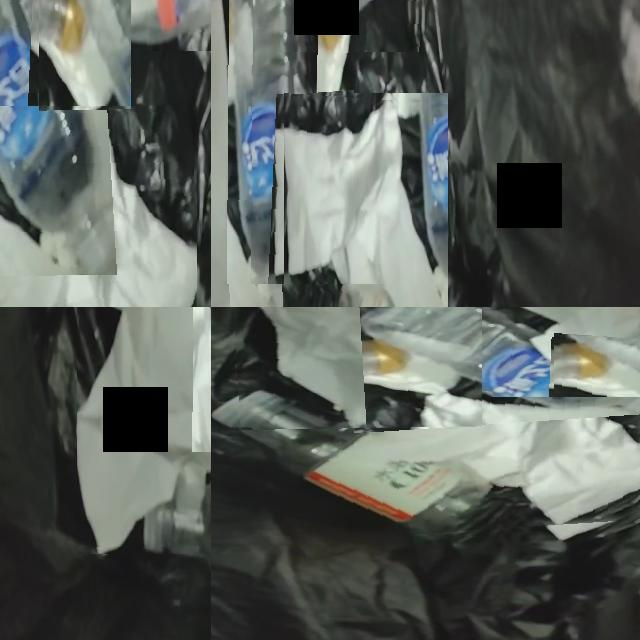bottle: (212, 391, 493, 536), (357, 307, 640, 435), (0, 0, 93, 278), (231, 0, 311, 307), (86, 0, 211, 51)
paper: (332, 397, 640, 528), (0, 106, 197, 307), (284, 99, 448, 307), (77, 307, 211, 554), (259, 307, 482, 429), (40, 0, 130, 113), (554, 335, 640, 397), (311, 21, 355, 111), (277, 258, 298, 307)
